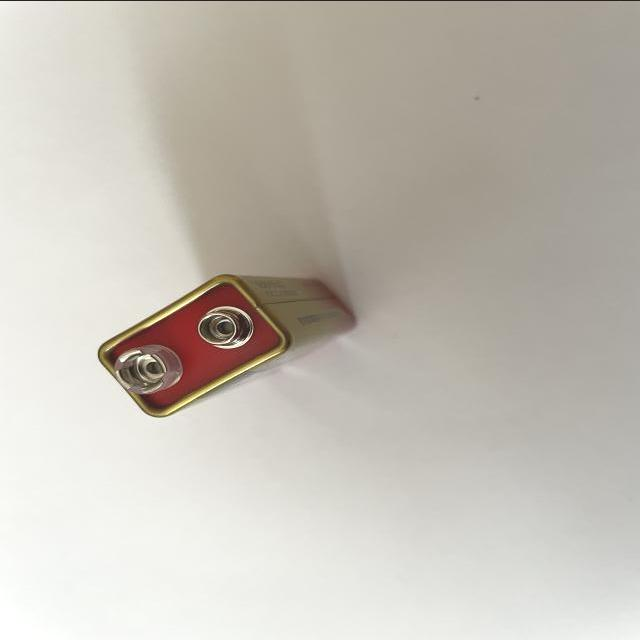9V: (96, 273, 356, 419)
